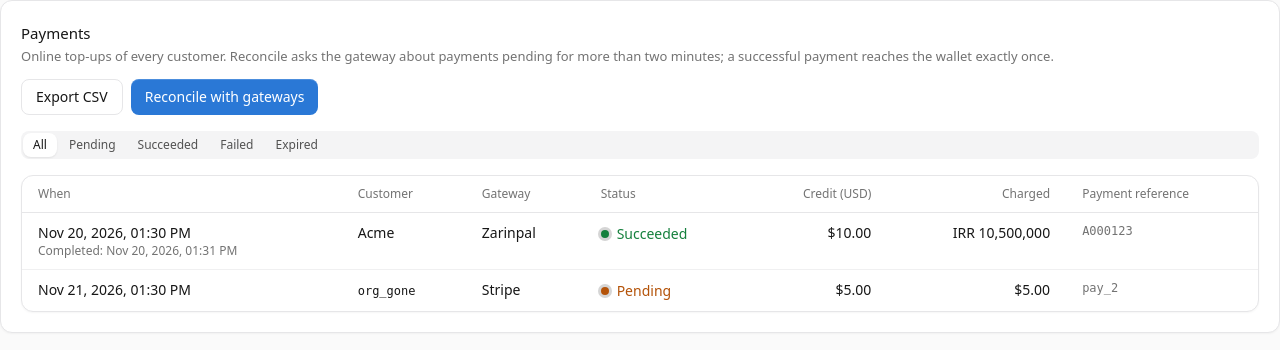
Test: billing payments (card 25.1) › filters by status on the server
The width and height of the screenshot is (1280, 350).
Click the radio button labelled "Pending".
click(92, 144)  # box [59,132,126,156]
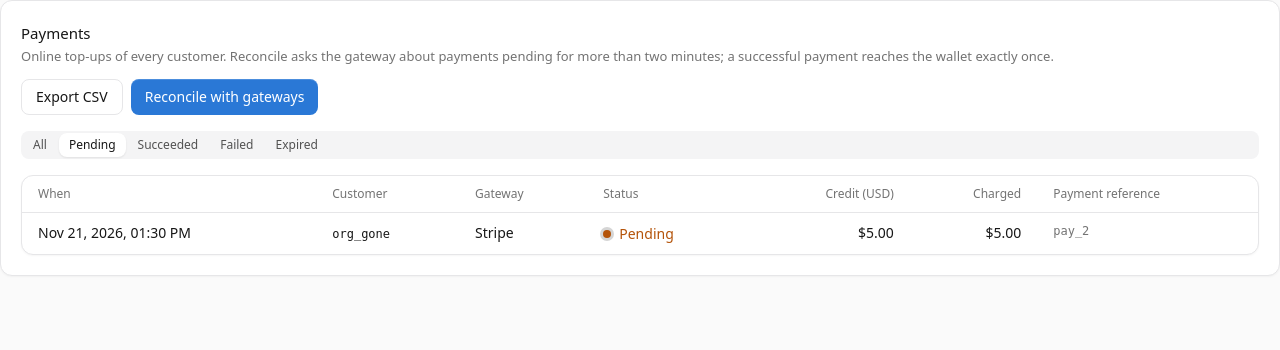
Result: the number of rows with test id "payment-row" is 1 at [22,212,1258,254]
